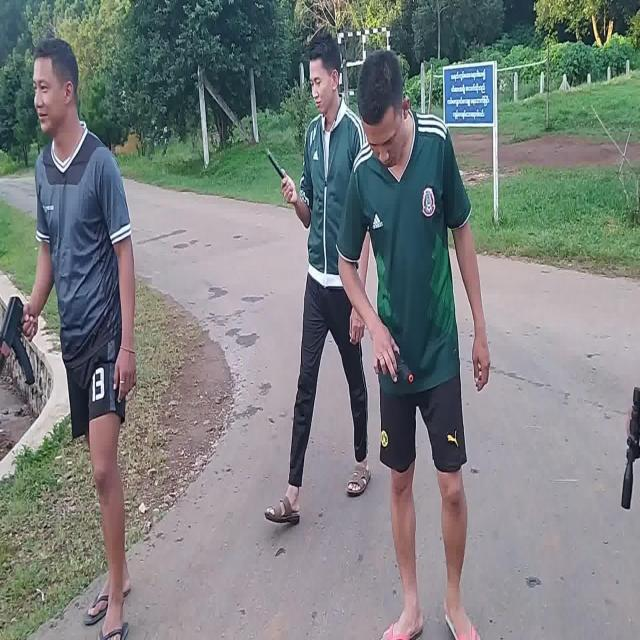gun: (0, 297, 36, 385), (378, 350, 414, 384)
